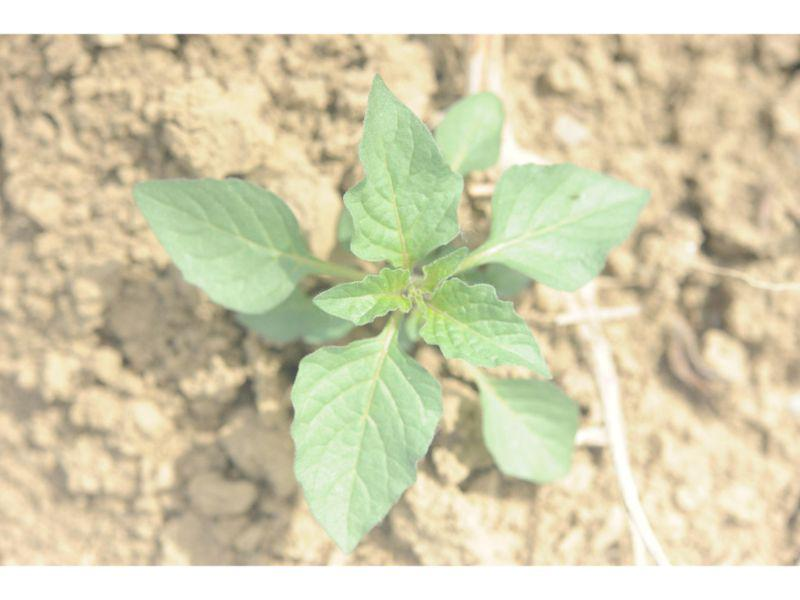nightshade: (130, 69, 652, 550)
